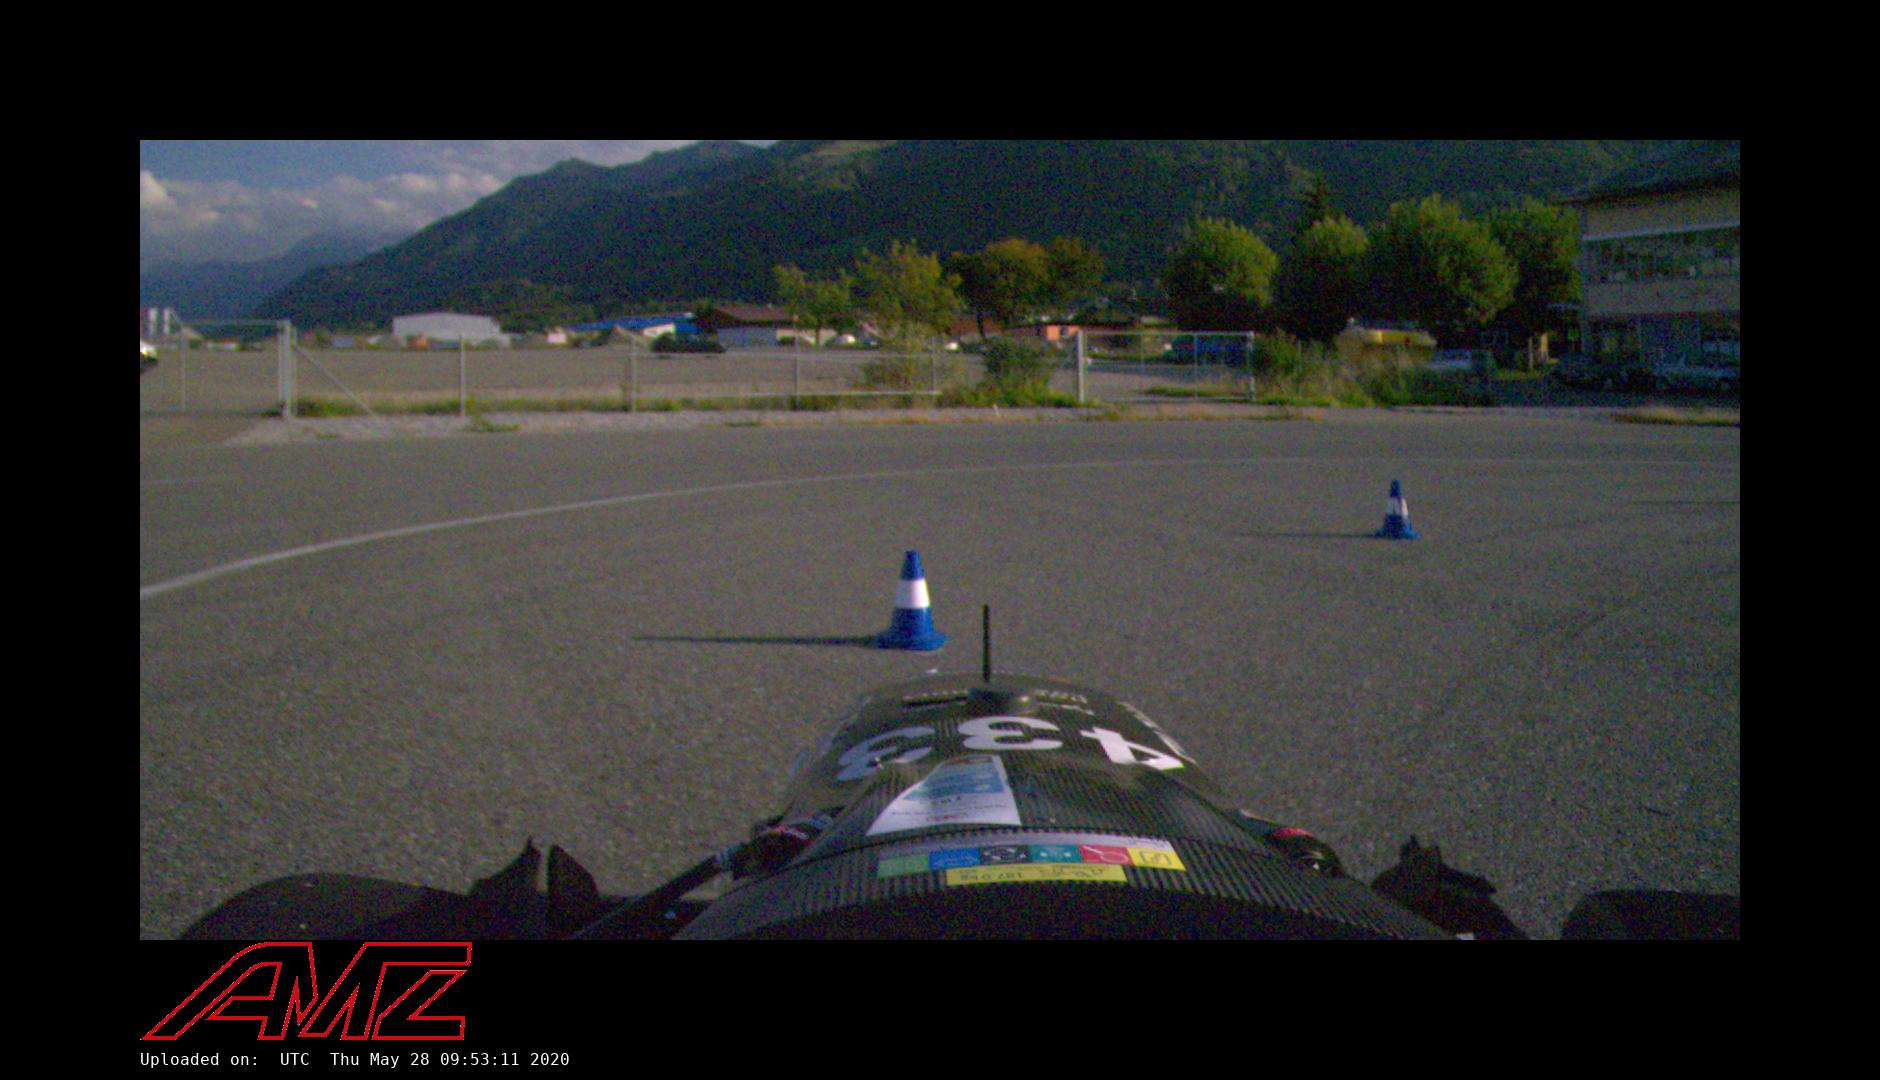blue_cone: (875, 552, 946, 651), (1374, 481, 1418, 539)
